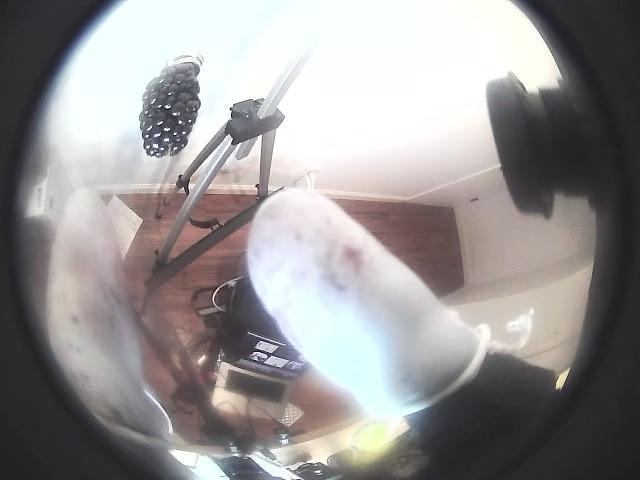berry: (139, 62, 200, 157)
gripper: (246, 188, 512, 419), (43, 187, 171, 440)
lense: (0, 0, 173, 479), (473, 0, 639, 479)
